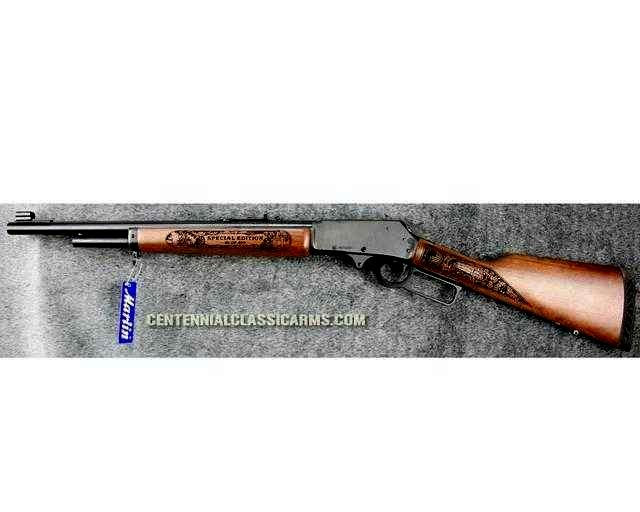rifle: (1, 206, 640, 354)
